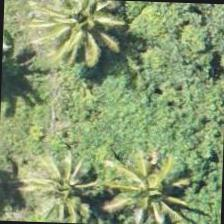Kelapa_Sawit: (27, 143, 121, 223), (109, 150, 203, 223), (31, 0, 124, 67)
